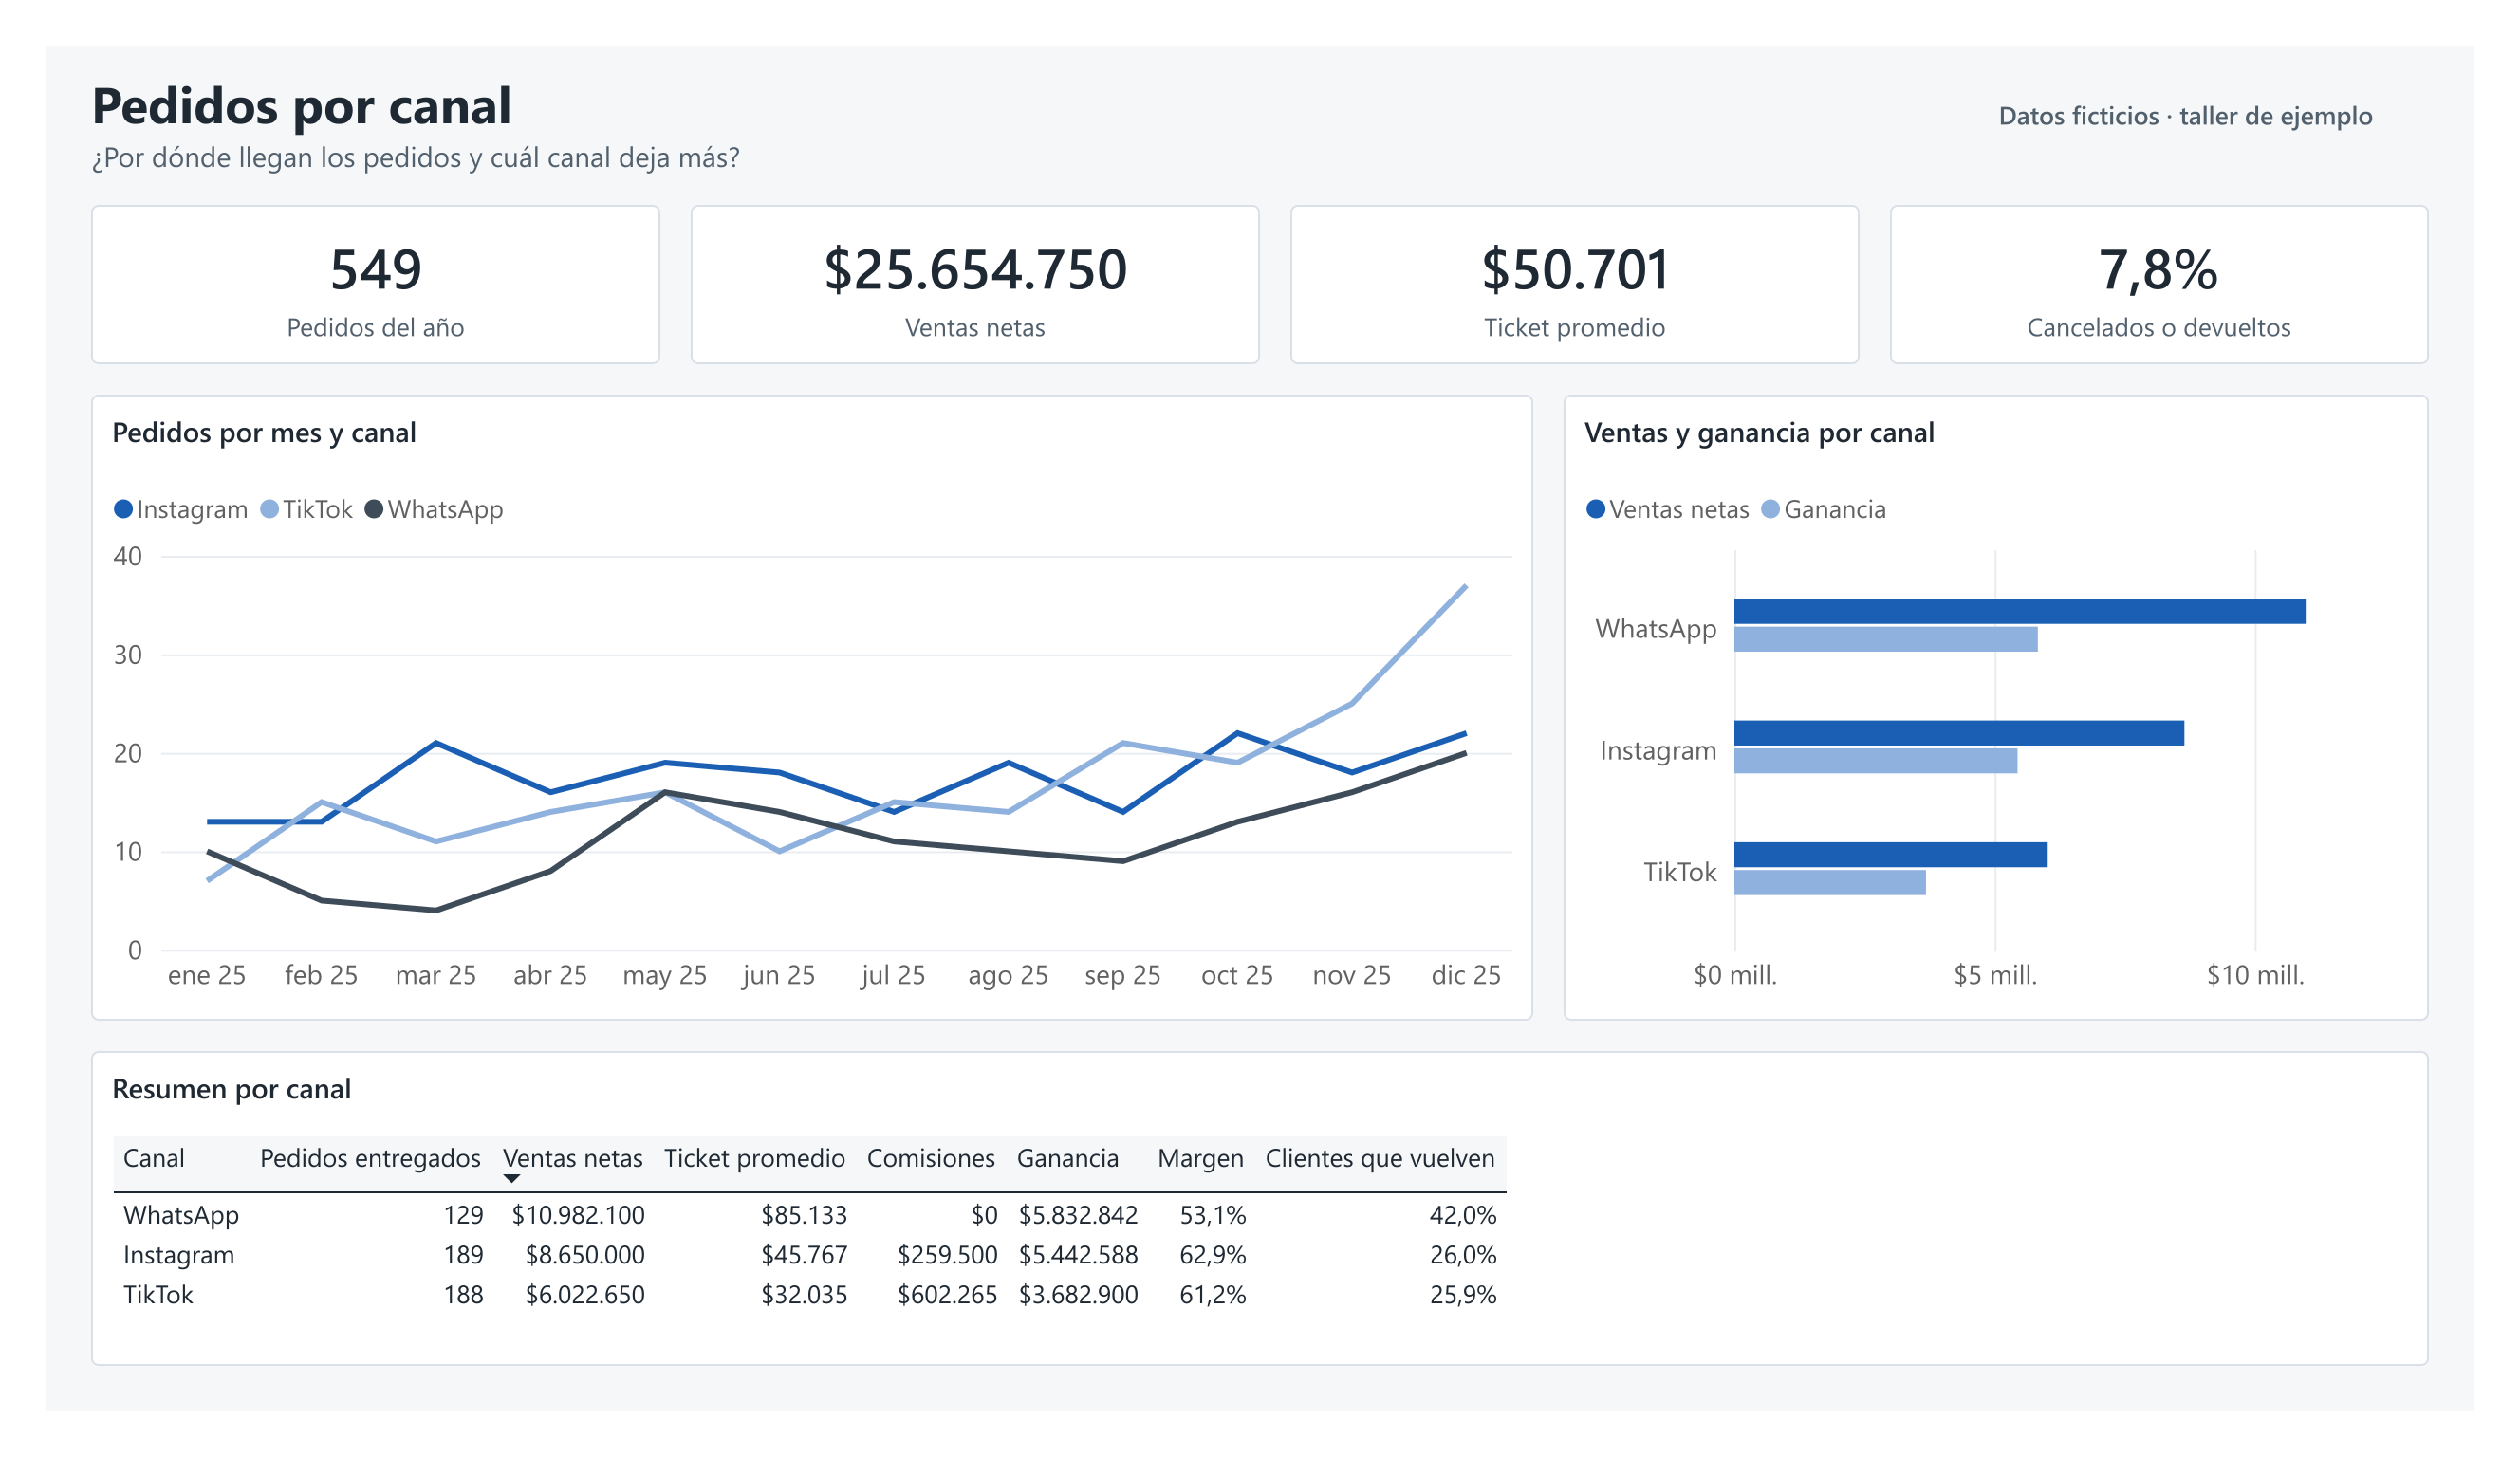

What the dashboard file says about the page in this screenshot:
{"tool":"powerbi","page":{"name":"Pedidos por canal","canvas":[1280,720],"ordinal":3},"visuals":[{"type":"textbox","box":[24,12,900,64],"z":0},{"type":"card","fields":{"Values":["Medidas.Origen de los datos"]},"box":[1000,12,256,56],"z":1000},{"type":"card","fields":{"Values":["Medidas.Pedidos"]},"box":[24,84,300,84],"z":2000},{"type":"card","fields":{"Values":["Medidas.Ventas netas"]},"box":[340,84,300,84],"z":3000},{"type":"card","fields":{"Values":["Medidas.Ticket promedio"]},"box":[656,84,300,84],"z":4000},{"type":"card","fields":{"Values":["Medidas.% cancelados o devueltos"]},"box":[972,84,284,84],"z":5000},{"type":"lineChart","title":"Pedidos por mes y canal","fields":{"Category":["Calendario.Mes"],"Series":["Pedidos.canal"],"Y":["Medidas.Pedidos"]},"box":[24,184,760,330],"z":6000},{"type":"clusteredBarChart","title":"Ventas y ganancia por canal","fields":{"Category":["Pedidos.canal"],"Y":["Medidas.Ventas netas","Medidas.Ganancia"]},"box":[800,184,456,330],"z":7000},{"type":"tableEx","title":"Resumen por canal","fields":{"Values":["Pedidos.canal","Medidas.Pedidos entregados","Medidas.Ventas netas","Medidas.Ticket promedio","Medidas.Comisiones","Medidas.Ganancia","Medidas.Margen %","Medidas.Clientes que vuelven %"]},"box":[24,530,1232,166],"z":8000}]}

Visuals, with their boxes in screenshot pixels (x1, y1, x2, y2), scaled from the page's 1280x720 canvas onto the 2520x1457 screenshot:
textbox: x1=47, y1=25, x2=1819, y2=154
card - Medidas.Origen de los datos: x1=1969, y1=25, x2=2473, y2=138
card - Medidas.Pedidos: x1=47, y1=170, x2=638, y2=340
card - Medidas.Ventas netas: x1=670, y1=170, x2=1260, y2=340
card - Medidas.Ticket promedio: x1=1291, y1=170, x2=1882, y2=340
card - Medidas.% cancelados o devueltos: x1=1914, y1=170, x2=2473, y2=340
"Pedidos por mes y canal" lineChart: x1=47, y1=373, x2=1544, y2=1041
"Ventas y ganancia por canal" clusteredBarChart: x1=1575, y1=373, x2=2473, y2=1041
"Resumen por canal" tableEx: x1=47, y1=1073, x2=2473, y2=1409
